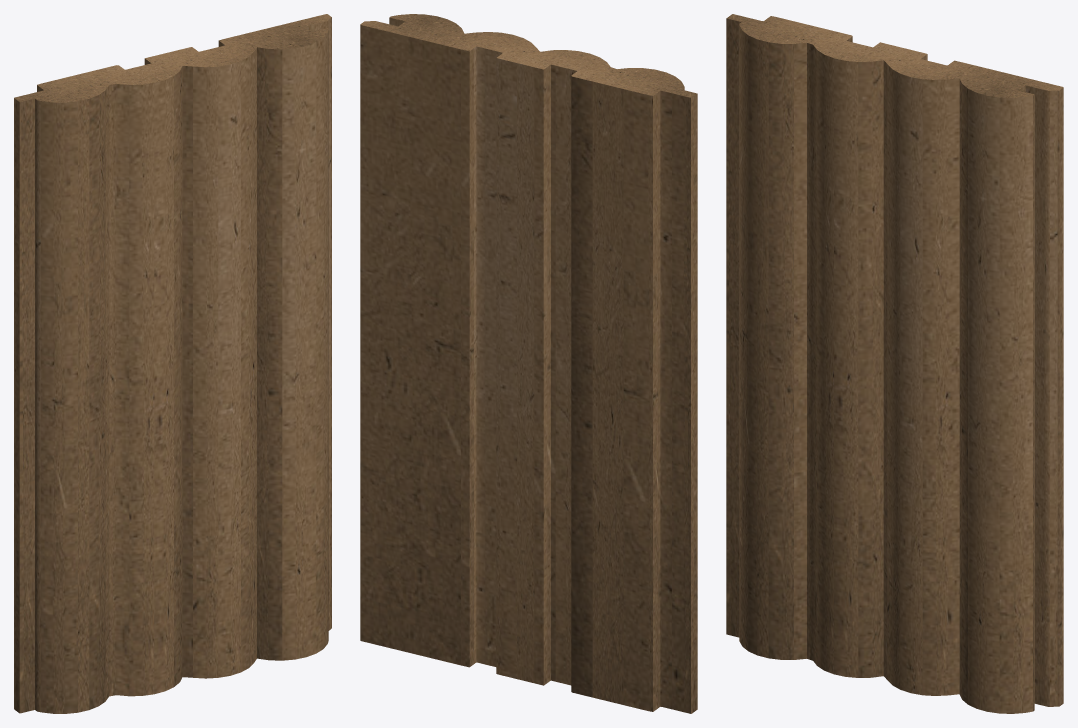
The model's file is rigel.glb.
3 views of the same model, side by side, from view 1: azimuth 30°, elevation 25°; view 2: azimuth 150°, elevation 25°; view 3: azimuth 330°, elevation 25° (orthographic).
Parts seen in each view (by area): view 1: root; view 2: root; view 3: root.
Part boxes in pixels (<box>): root: <box>14,14,331,713</box>; root: <box>360,14,697,713</box>; root: <box>726,14,1063,713</box>.
Bounding box in the file's own units: 0.12 × 0.2182 × 0.018.
2 materials, 2 textured.
